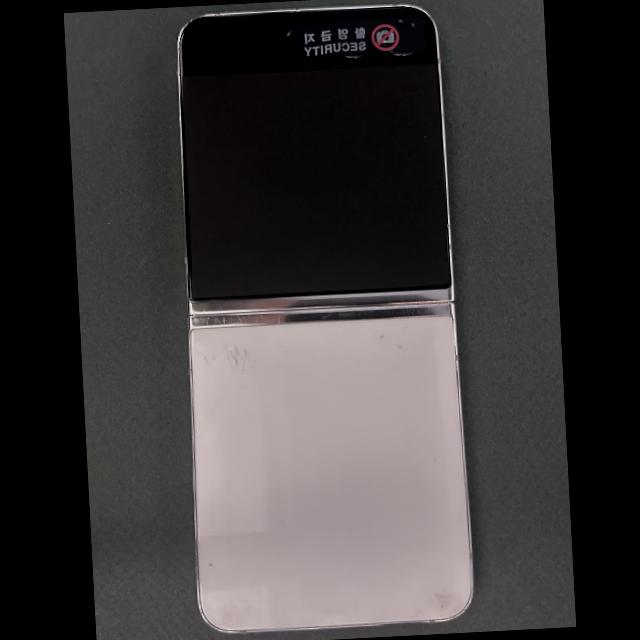phone: (178, 5, 471, 632)
sticker: (275, 16, 426, 63)
